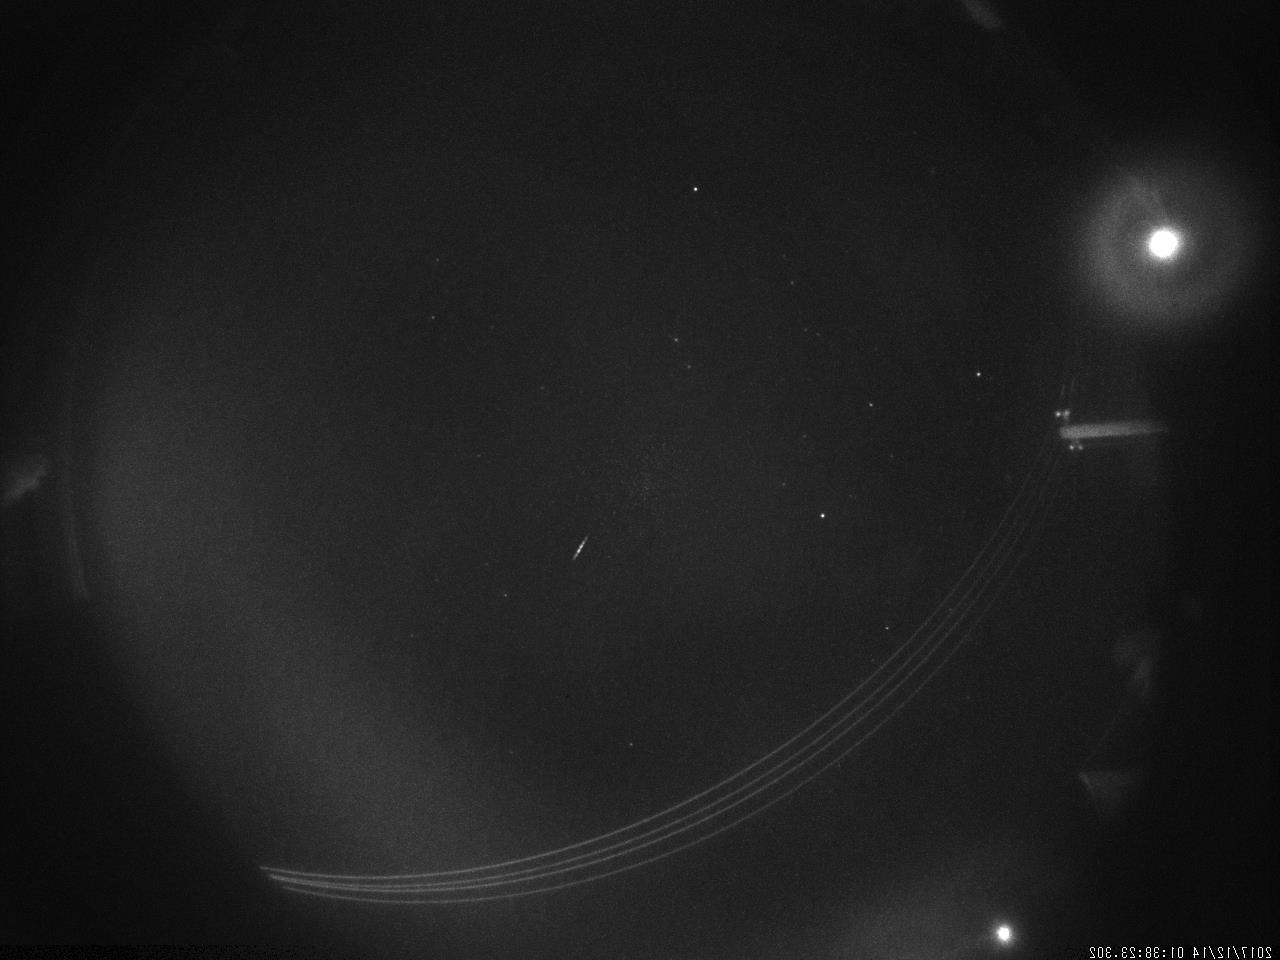meteor: (569, 533, 593, 567)
